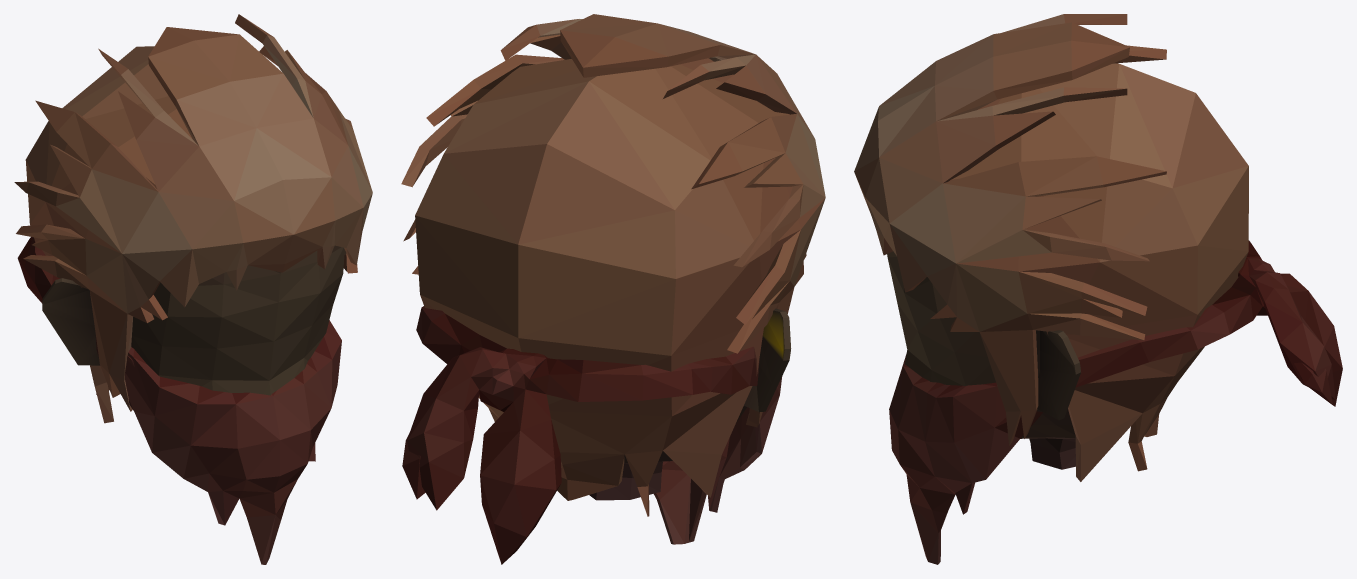
Rendered from helm_darkskin_spike_blonde_bandana.fbx.
3 views of the same model, side by side, from view 1: azimuth 30°, elevation 25°; view 2: azimuth 150°, elevation 25°; view 3: azimuth 270°, elevation 25° (orthographic). The views are drawn at different scales.
Visible parts, largest first — view 1: helm_darkskin_spike_blonde_bandana; view 2: helm_darkskin_spike_blonde_bandana; view 3: helm_darkskin_spike_blonde_bandana.
Part boxes in pixels (x1,y1,x2,y2): helm_darkskin_spike_blonde_bandana: [14, 14, 372, 564]; helm_darkskin_spike_blonde_bandana: [401, 14, 825, 564]; helm_darkskin_spike_blonde_bandana: [854, 14, 1342, 564].
Bounding box in the file's own units: 1.13 × 1.71 × 1.46.
